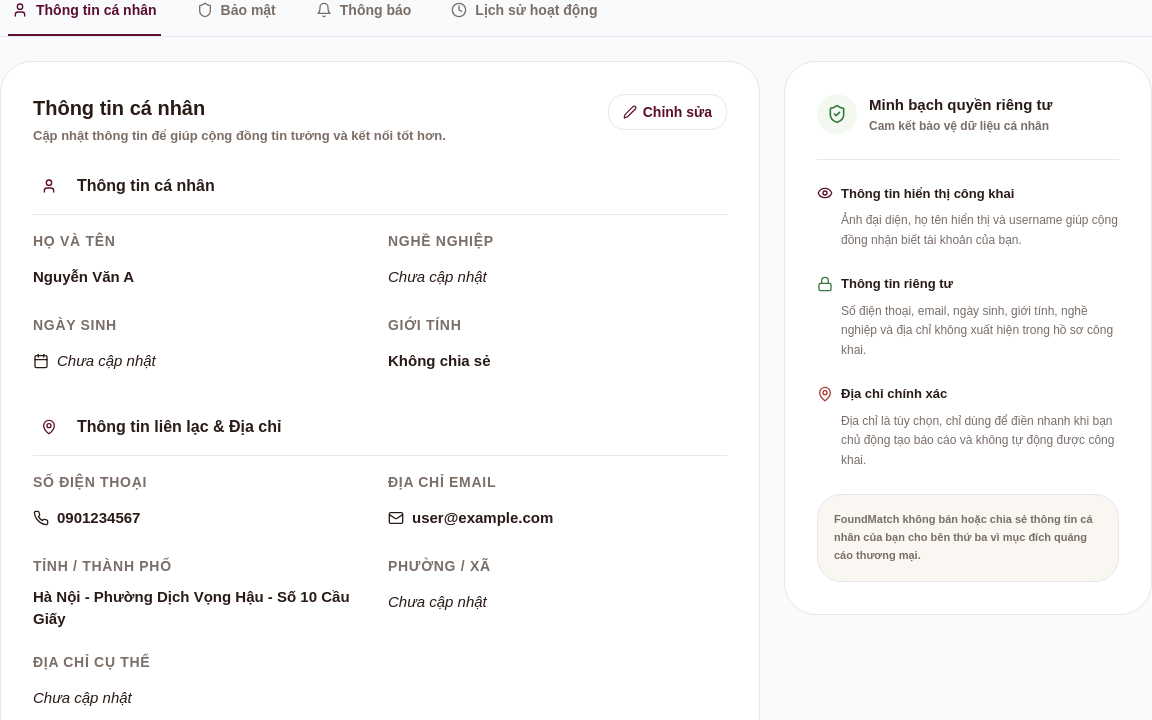
Test case: Profile Tabs and Modular Components › instantly switches to ProfileSecurityTab without URL latency
Click the button "Bảo mật": {"x": 236, "y": 18} [192,0,280,36]
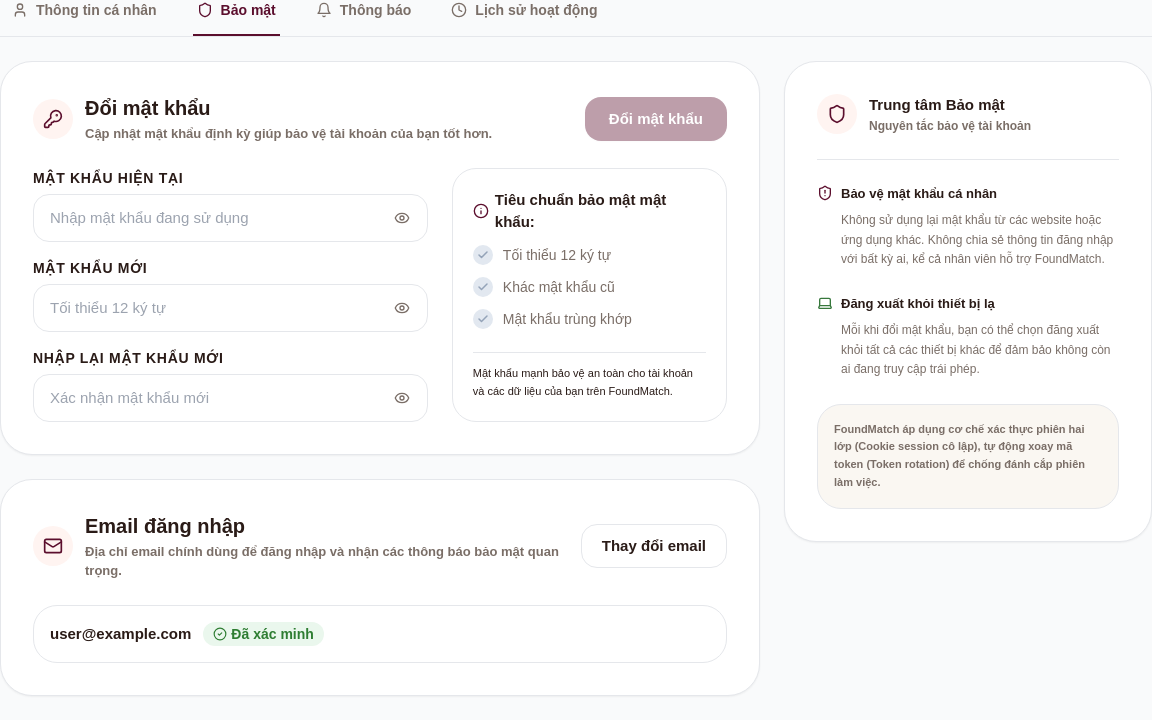
Result: the heading "Trung tâm Bảo mật" is shown at [869,96,1005,113]
